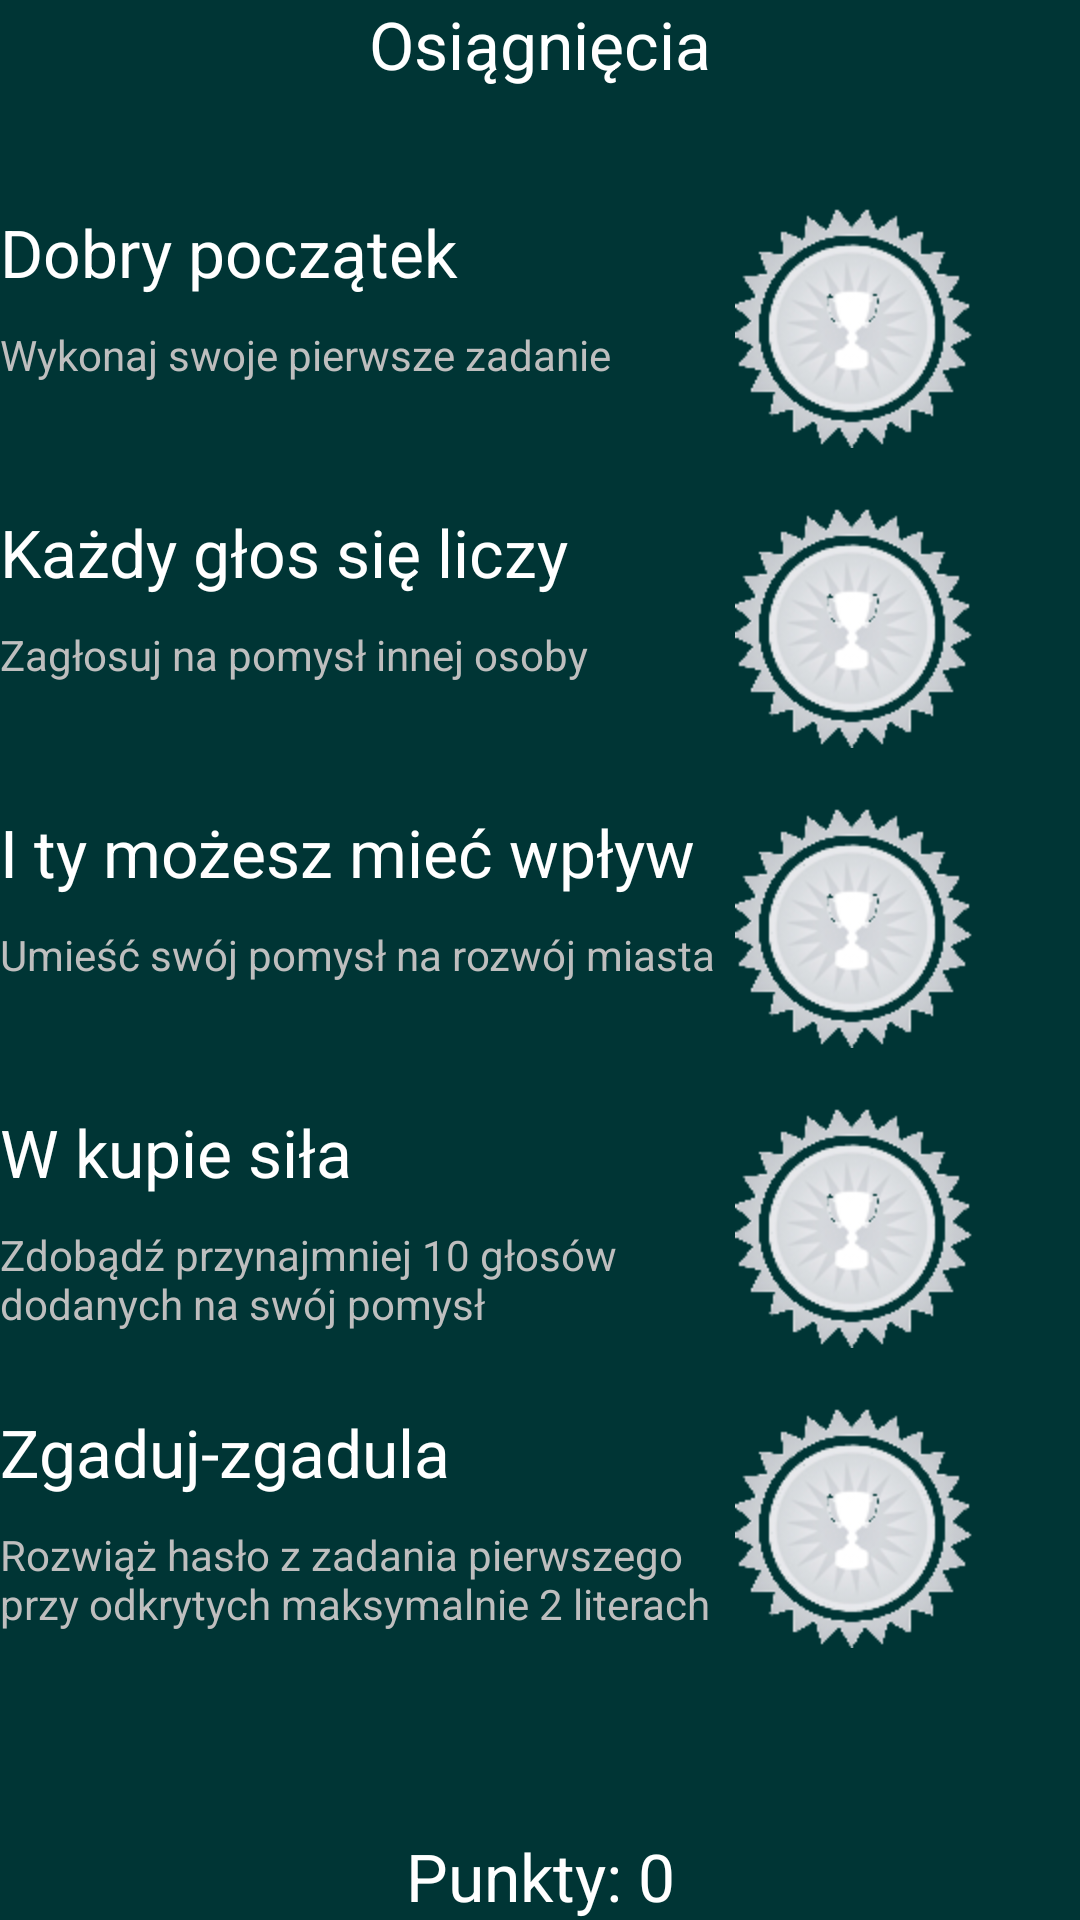

Screen size 1080×1920. Icon name, then its box in pixels as Rect(x1, y1, x2, y2):
nieaktywny achievment: Rect(735, 209, 972, 448), Rect(735, 509, 972, 748), Rect(735, 809, 972, 1048), Rect(735, 1109, 972, 1348), Rect(735, 1409, 972, 1648)
